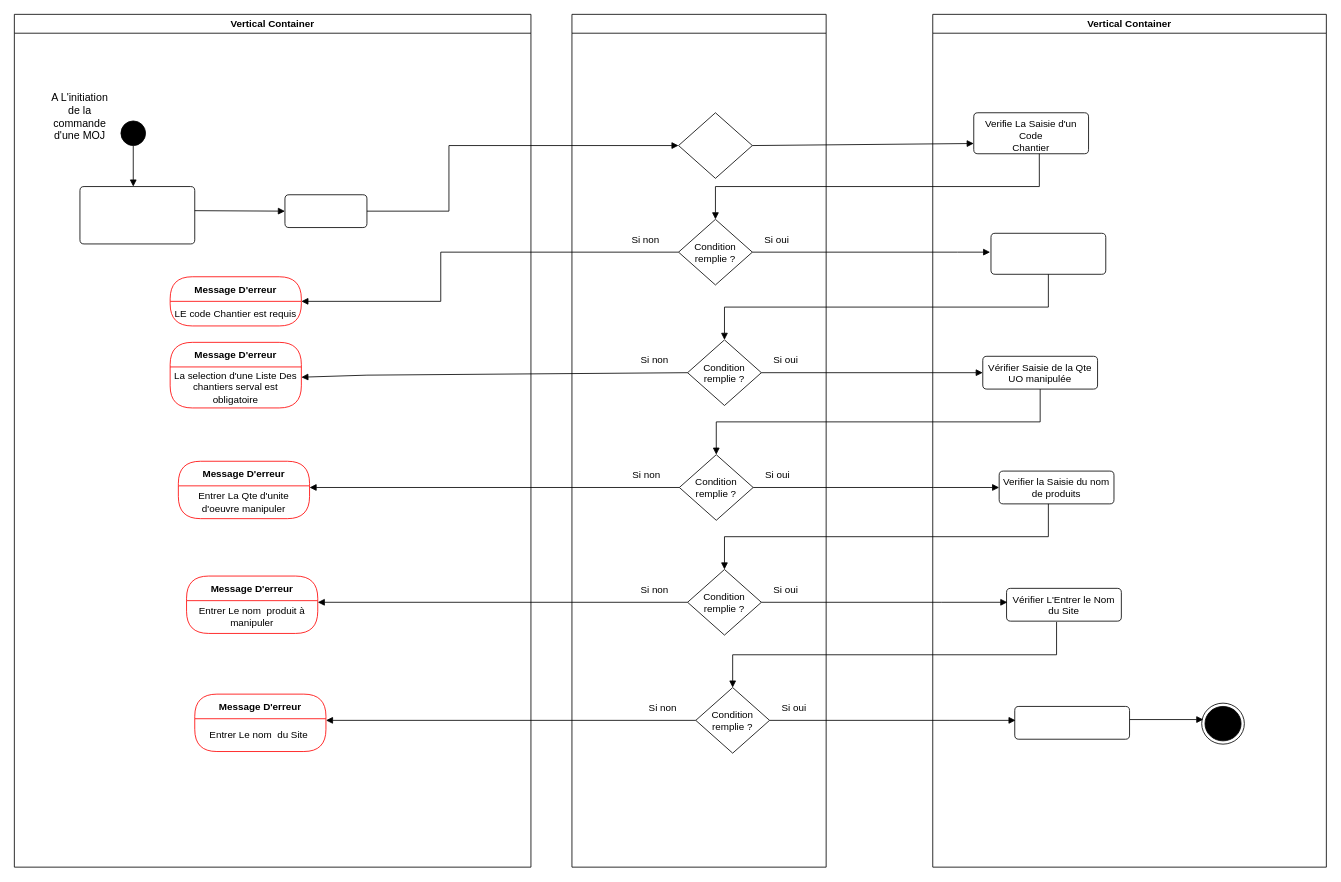
Image size: 1341x882. Some labels were removed from this diagram. The shapes that lost their labels are listed below. From the top down, each one's box as (x1, y1, x2, y2) in pixels, then its label:
(678, 112, 752, 178): Confirmation ?
(79, 186, 195, 244): Remplir le Formulaire de Commande de la MOJ
(284, 194, 367, 228): Engistrer
(990, 232, 1106, 274): Vérifier la sélection d'une Liste des Chantiers SErval
(571, 14, 826, 867): Controle
(1014, 706, 1130, 739): Enregistrer La Commande
